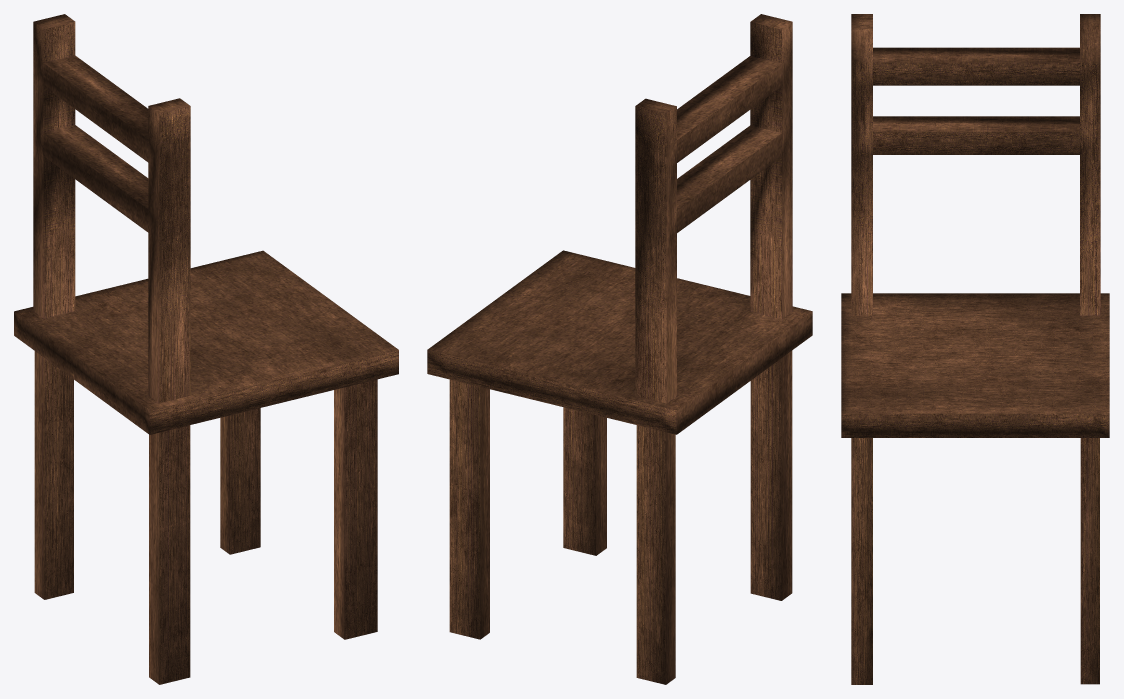
Rendered from sedia.fbx.
3 views of the same model, side by side, from view 1: azimuth 30°, elevation 25°; view 2: azimuth 150°, elevation 25°; view 3: azimuth 270°, elevation 25° (orthographic).
Visible parts, largest first — view 1: sedia; view 2: sedia; view 3: sedia.
Part boxes in pixels (x1,y1,x2,y2): sedia: [14, 14, 398, 684]; sedia: [427, 14, 812, 684]; sedia: [841, 14, 1109, 684].
Size of the model in its own units: 42.36 by 92.8 by 39.94.
